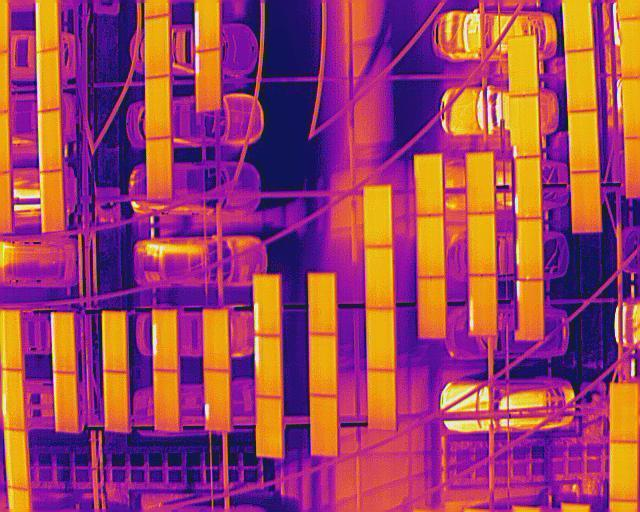Cell: (512, 95, 541, 158)
No-Anomaly: (568, 111, 600, 172), (566, 50, 598, 111), (571, 172, 602, 234), (417, 214, 446, 279), (466, 212, 495, 277), (365, 245, 394, 309), (363, 184, 392, 247), (308, 271, 336, 336), (416, 153, 445, 215), (367, 306, 395, 370), (310, 395, 339, 456), (610, 384, 639, 445), (367, 370, 396, 431), (418, 278, 447, 339), (467, 153, 496, 213), (309, 334, 337, 396), (610, 441, 638, 503), (145, 76, 172, 140), (153, 368, 180, 431), (510, 36, 538, 95), (145, 15, 171, 78), (256, 396, 282, 458), (147, 139, 173, 200), (4, 428, 29, 491), (53, 371, 78, 434), (204, 310, 229, 372), (40, 171, 65, 232), (0, 309, 23, 372), (104, 372, 127, 433), (521, 281, 545, 339), (104, 310, 126, 373), (36, 0, 60, 52)
Unclassified: (516, 219, 544, 280), (515, 157, 543, 218), (255, 337, 282, 400), (204, 370, 231, 431), (254, 275, 281, 336), (469, 274, 496, 335), (0, 370, 26, 431), (195, 51, 221, 112), (153, 310, 178, 372), (51, 313, 76, 374), (38, 110, 63, 171), (35, 50, 60, 109), (195, 0, 220, 51)
